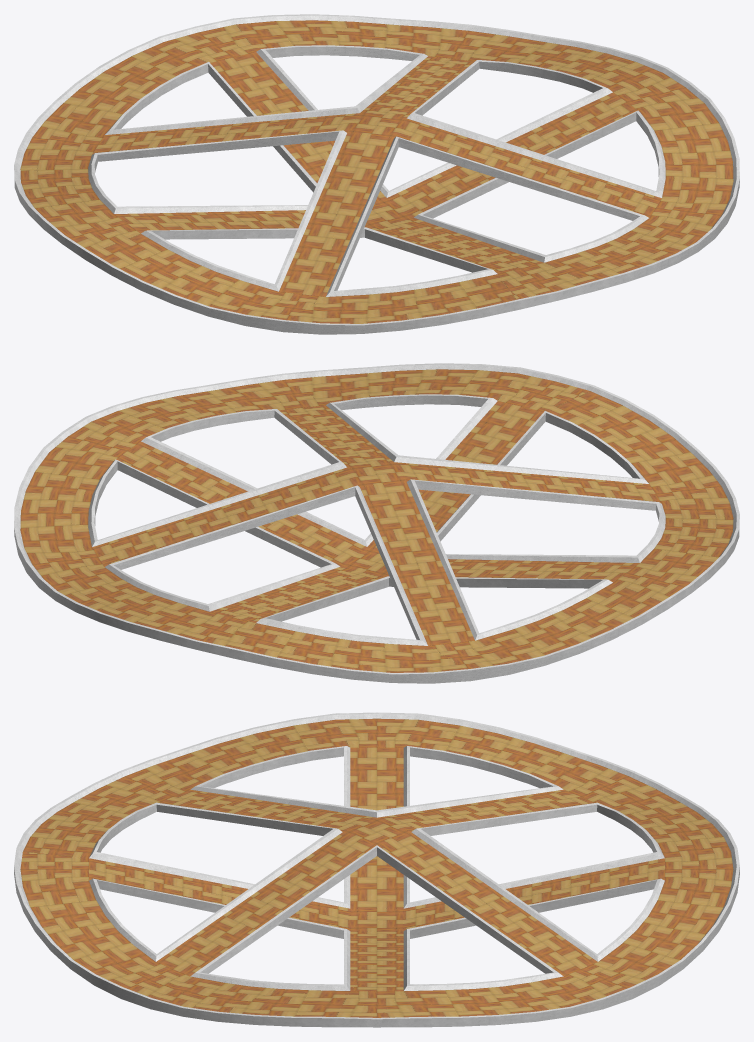
The model's file is Runway.FBX.
The picture shows the model from 3 angles, top to bottom: view 1: azimuth 30°, elevation 25°; view 2: azimuth 150°, elevation 25°; view 3: azimuth 270°, elevation 25°; orthographic projection.
Parts seen in each view (by area): view 1: Circle07; view 2: Circle07; view 3: Circle07.
Part boxes in pixels (<box>): Circle07: <box>14,14,739,334</box>; Circle07: <box>14,363,739,683</box>; Circle07: <box>14,712,739,1027</box>.
Size of the model in its own units: 2250 by 330 by 2250.
Materials: 2 (2 with a texture image).
